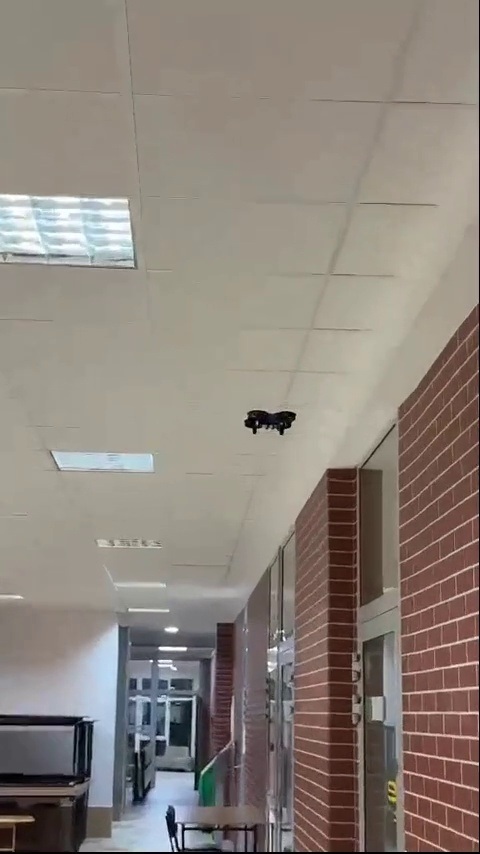drone: (245, 410, 296, 431)
